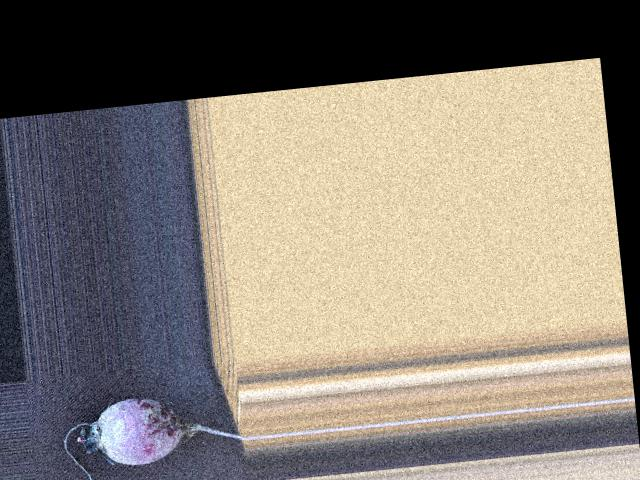beet: (60, 386, 249, 480)
